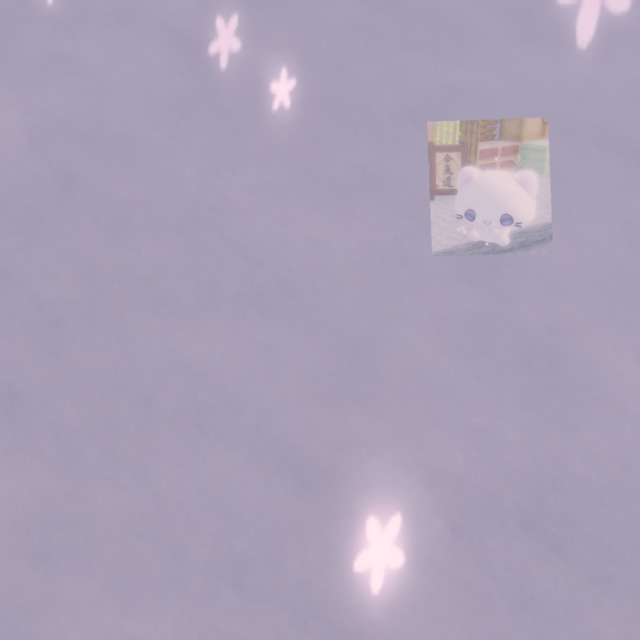urso_branco: (427, 117, 553, 257)
